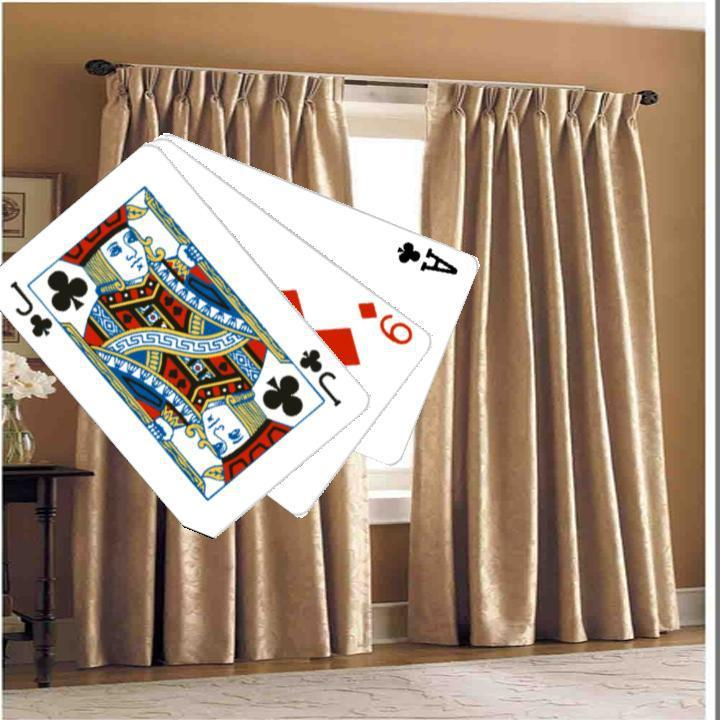9: (353, 296, 416, 347)
A: (393, 236, 461, 277)
J: (294, 344, 344, 409), (6, 276, 56, 340)
